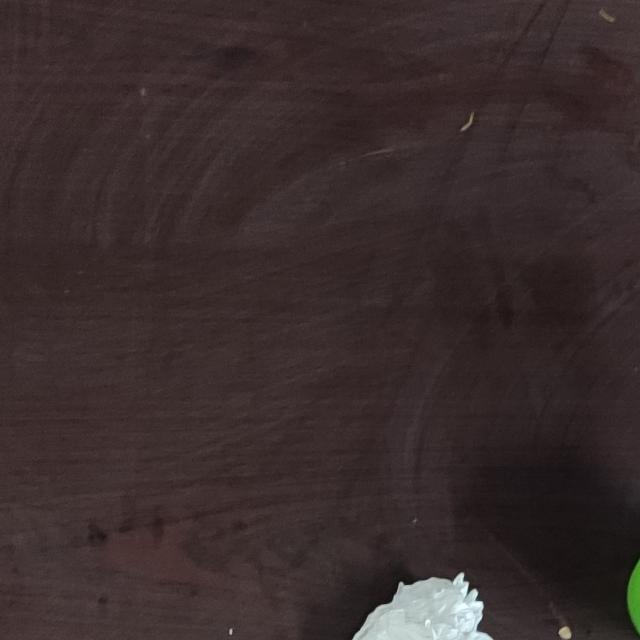kitchen paper: (351, 567, 503, 640)
